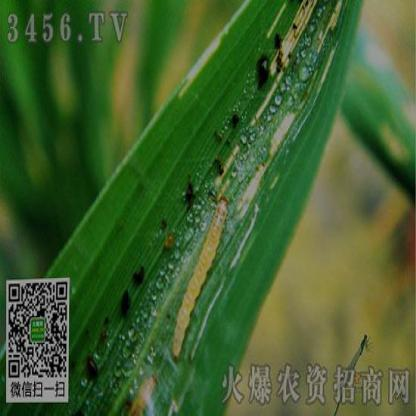leaf-folder: (176, 188, 232, 346)
